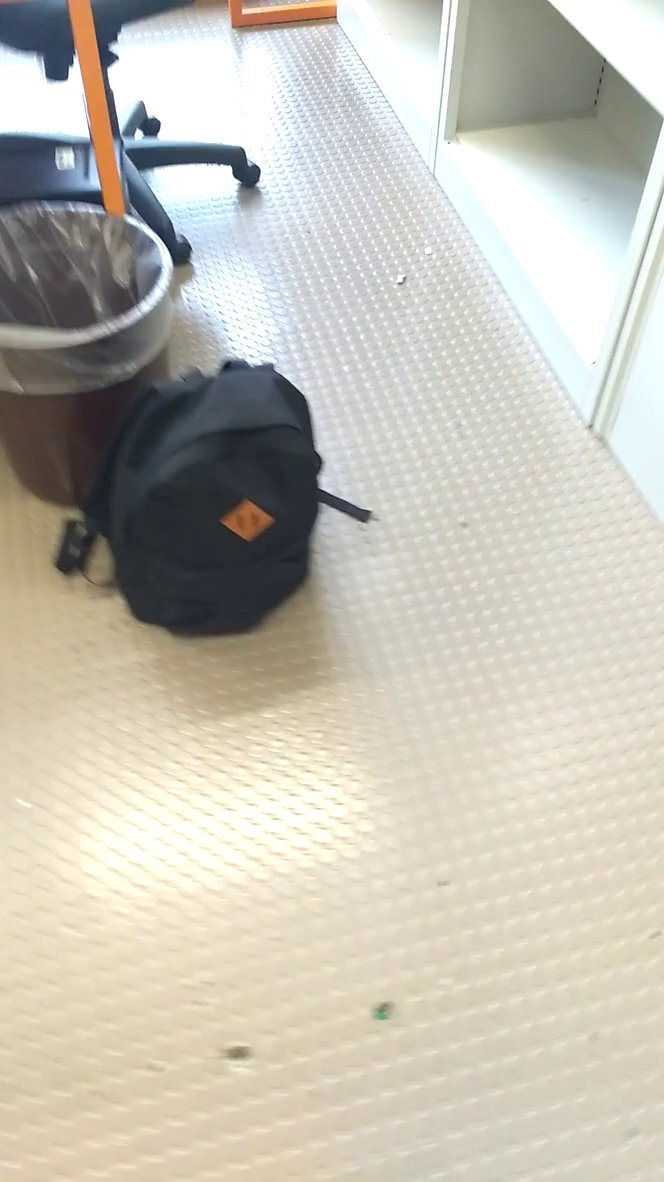bag: (52, 351, 388, 650)
bin: (1, 191, 196, 518)
